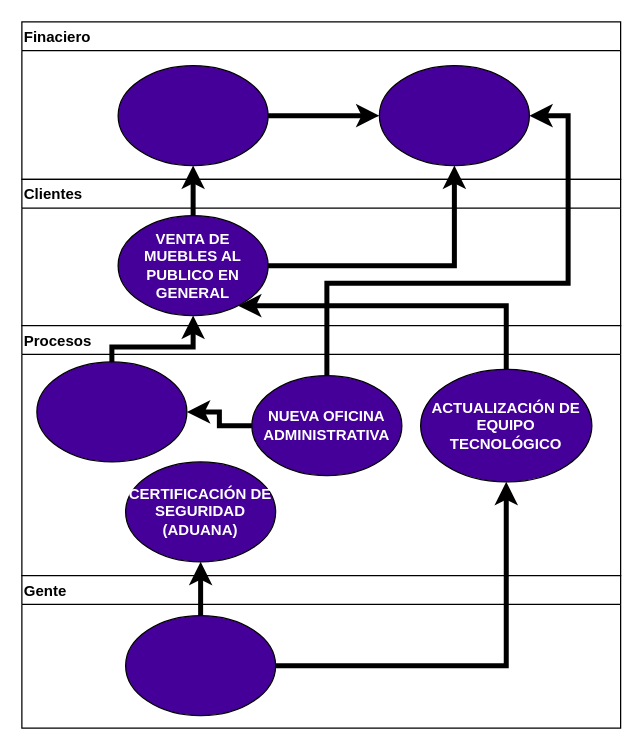
This 643x750 diagram has some shape labels left out. The shapes that lost their labels are listed below. From the top down, each one's centre as x and y in pixels, then its label:
At (x=192, y=115): "MANEJO DE DOS DIVISAS".
At (x=453, y=115): "SUELDOS COMPETITIVOS".
At (x=111, y=411): "ABRIR UN DEPARTAMENTO DE MARKETING".
At (x=200, y=665): "PROGRAMAS DE CAPACITACIONES".
